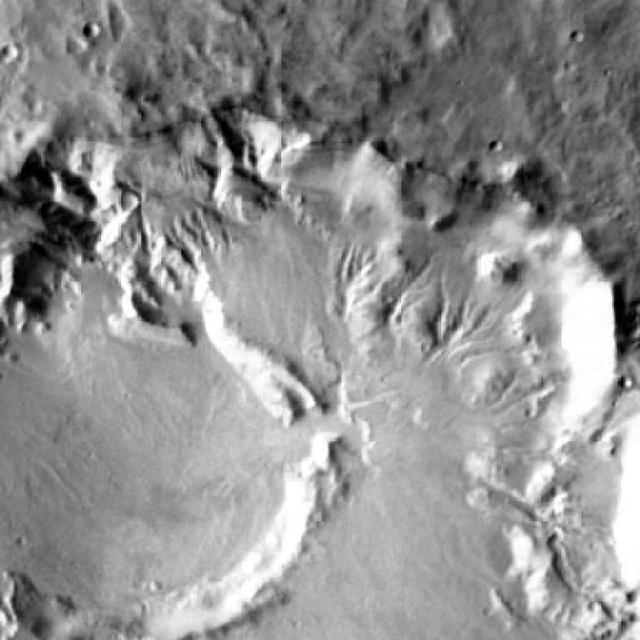crater: (0, 124, 640, 640), (0, 317, 332, 640), (116, 192, 136, 210), (80, 20, 98, 37)
